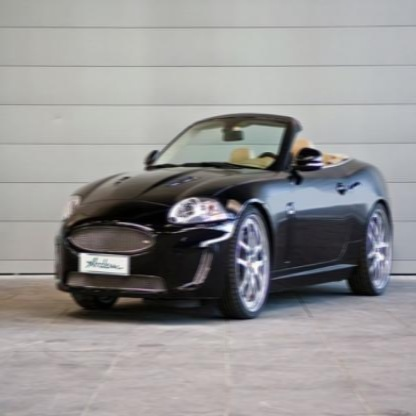Vehicle: (55, 114, 394, 321)
